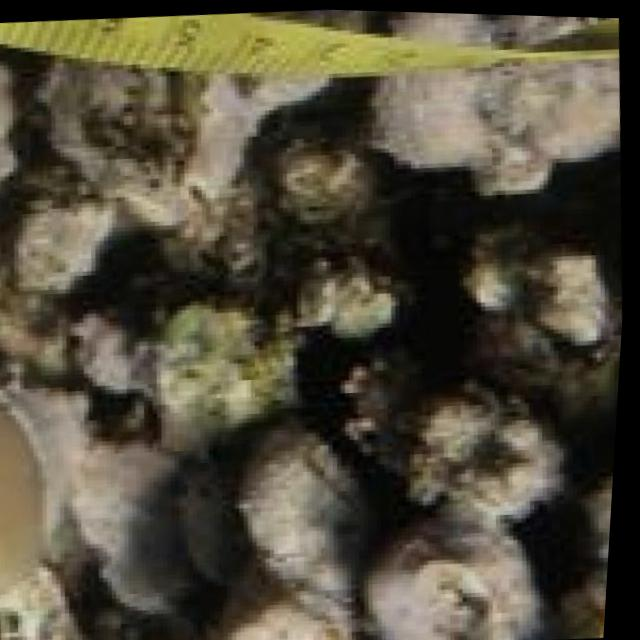Dead Coral: (0, 48, 638, 640)
